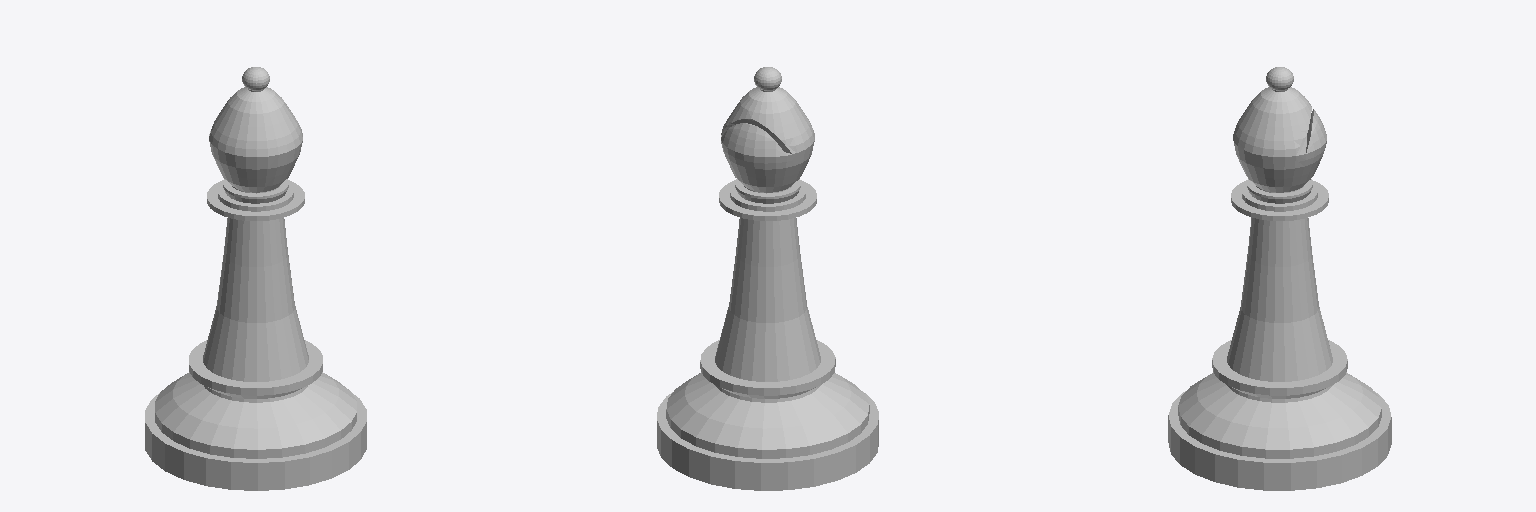
Rendered from bishop_white.obj.
The picture shows the model from 3 angles: view 1: azimuth 30°, elevation 25°; view 2: azimuth 150°, elevation 25°; view 3: azimuth 270°, elevation 25°; orthographic projection.
Parts seen in each view (by area): view 1: bishop_white_bishop; view 2: bishop_white_bishop; view 3: bishop_white_bishop.
Part boxes in pixels (x1,y1,x2,y2): bishop_white_bishop: (145, 67, 366, 490); bishop_white_bishop: (657, 67, 878, 490); bishop_white_bishop: (1168, 67, 1391, 490).
Size of the model in its own units: 4.02 by 7.5 by 4.04.